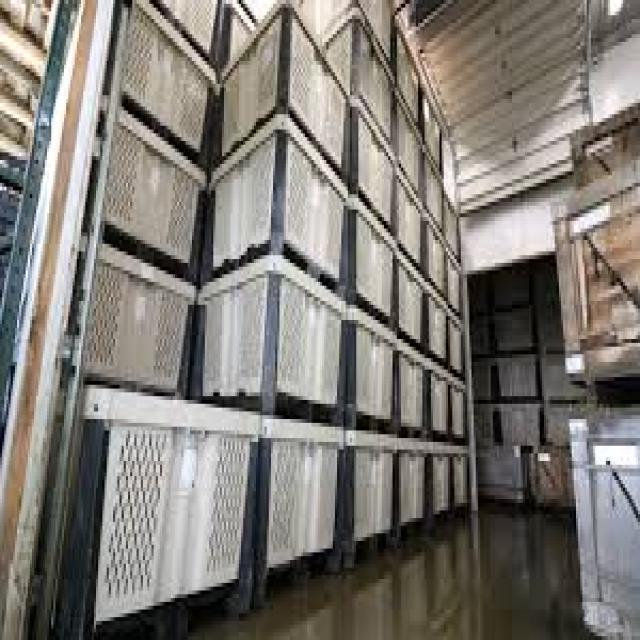basket: (94, 426, 250, 633), (557, 107, 640, 404), (87, 2, 241, 160), (253, 18, 374, 169), (97, 119, 209, 264), (572, 411, 640, 640), (82, 261, 194, 395), (267, 440, 340, 569), (220, 11, 284, 154), (274, 278, 346, 405), (211, 134, 277, 268), (200, 275, 269, 400), (337, 29, 414, 139), (284, 141, 345, 278), (355, 213, 396, 316), (361, 118, 395, 221), (356, 450, 395, 539), (358, 328, 395, 419), (401, 453, 427, 526), (399, 183, 422, 263), (399, 34, 420, 118), (401, 358, 425, 430), (399, 107, 420, 187), (401, 267, 422, 343), (329, 23, 352, 91), (423, 98, 443, 164), (431, 377, 451, 435), (429, 229, 446, 290), (427, 164, 444, 225), (431, 301, 448, 358), (444, 137, 457, 206), (451, 388, 468, 437), (435, 457, 450, 512), (454, 457, 469, 509), (446, 202, 459, 255), (450, 324, 463, 373), (450, 263, 461, 312)
